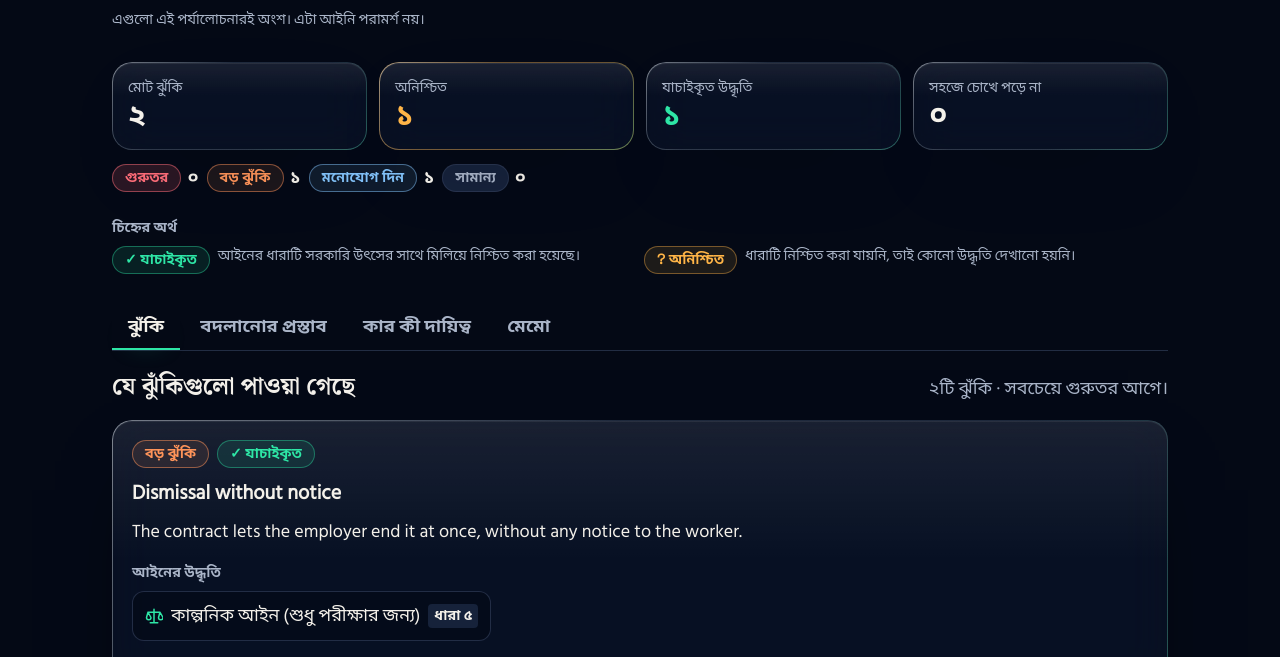
Scenario: ResultsView tabs › FR-70 FR-71 shows the four parts and opens them by tab
This screenshot has width=1280, height=657.
(page scrolled)
Click the tab "কার কী দায়িত্ব".
click(417, 328)  # box top-left (347, 306), bottom-right (487, 350)
(page scrolled)
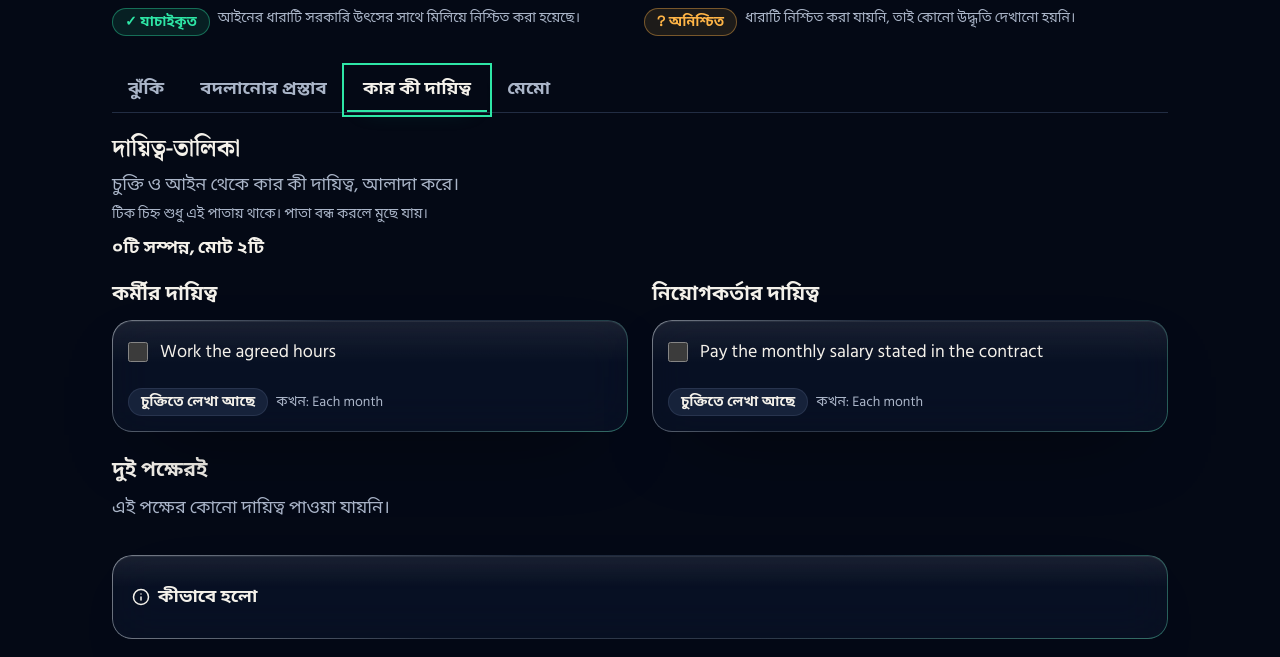
Check: the panel "কার কী দায়িত্ব" is shown, box top-left (112, 132), bottom-right (1168, 523)
